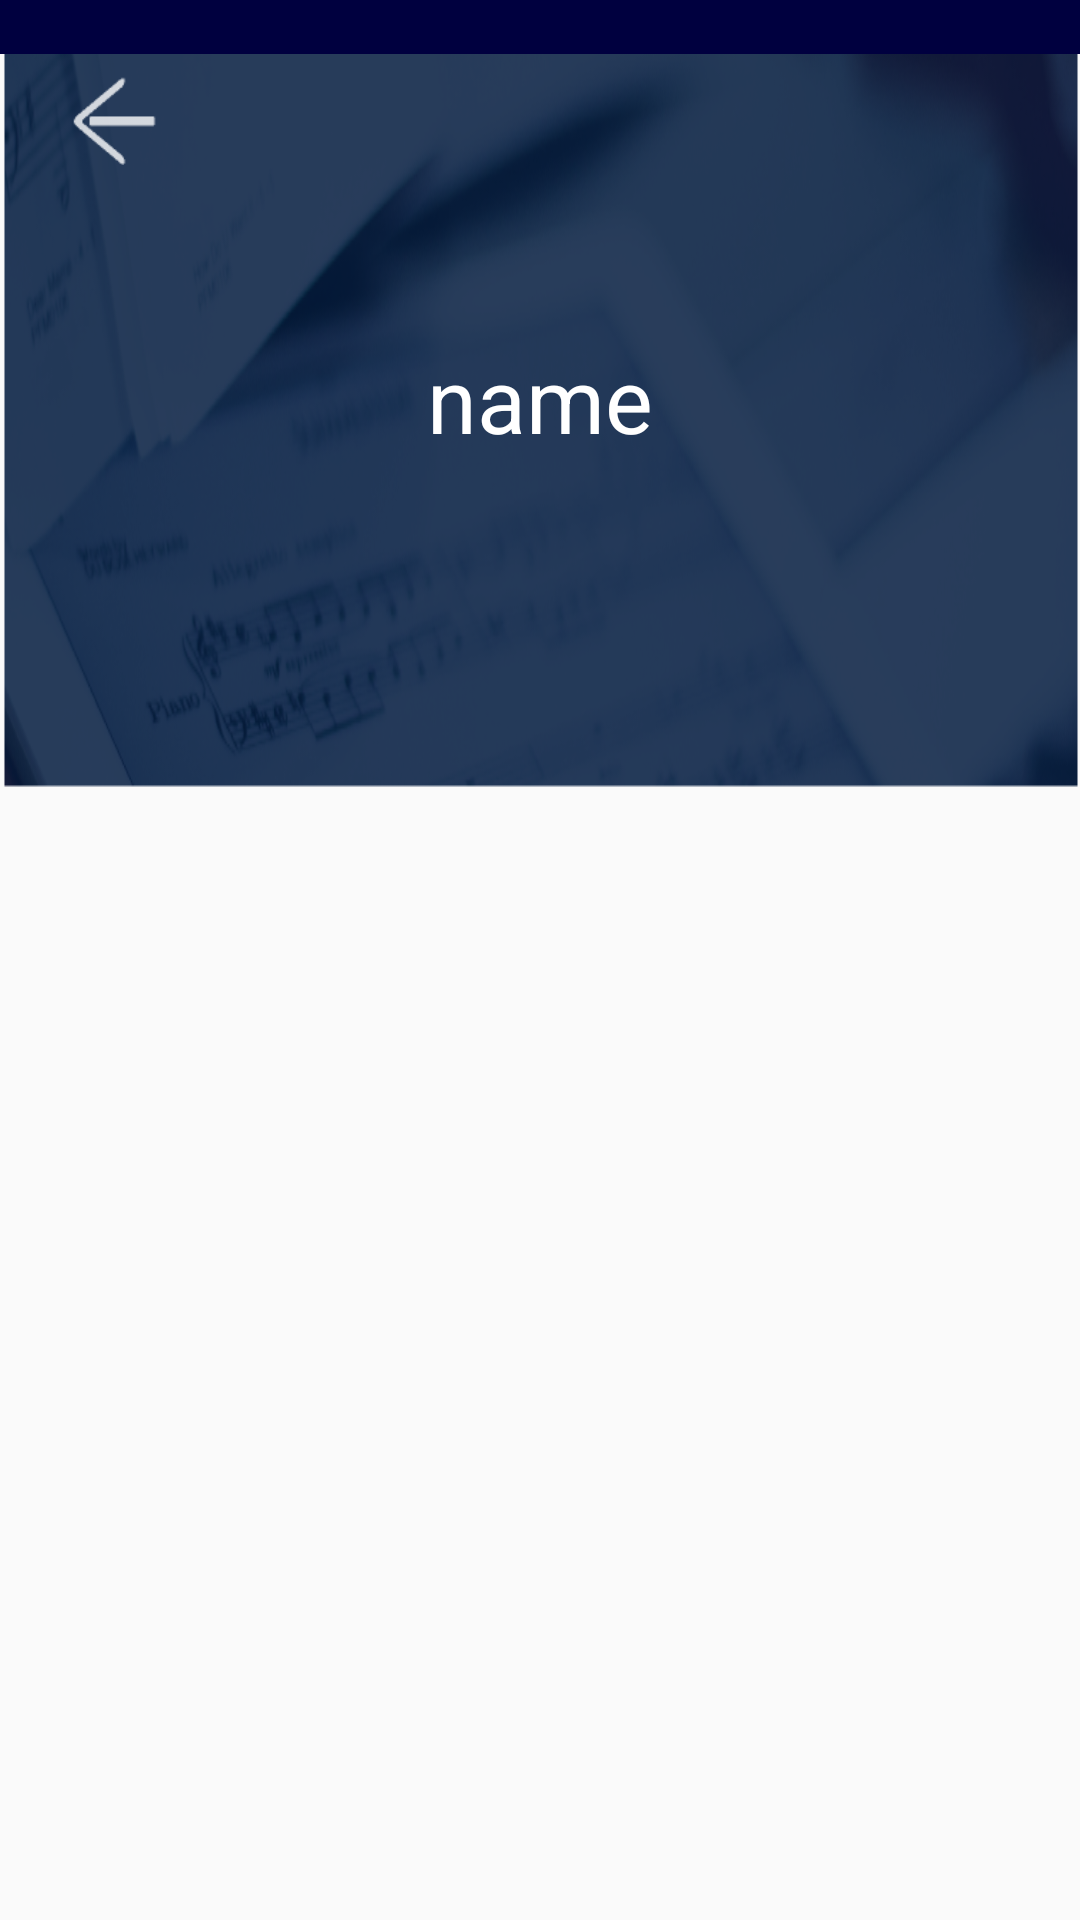

Named icons in this screenshot (1080px x 1920px) and their bounding boxes, (left=x1, top=y1, right=x2, bottom=y2):
back: (left=15, top=78, right=156, bottom=165)
